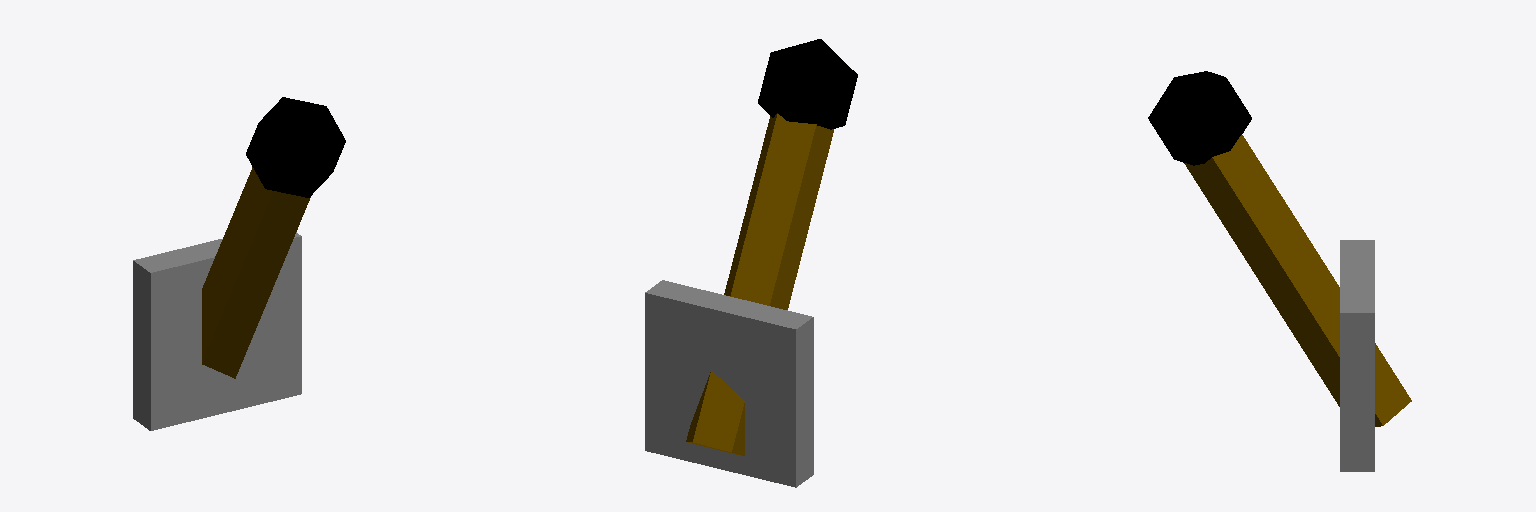
File: Torch.obj
3 views of the same model, side by side, from view 1: azimuth 30°, elevation 25°; view 2: azimuth 150°, elevation 25°; view 3: azimuth 270°, elevation 25° (orthographic).
Parts seen in each view (by area): view 1: Torch; view 2: Torch; view 3: Torch.
Part boxes in pixels (bbox=[...]): Torch: bbox=[133, 97, 345, 430]; Torch: bbox=[645, 39, 857, 487]; Torch: bbox=[1148, 71, 1411, 471].
Bounding box in the file's own units: 1 × 2.26 × 1.51.